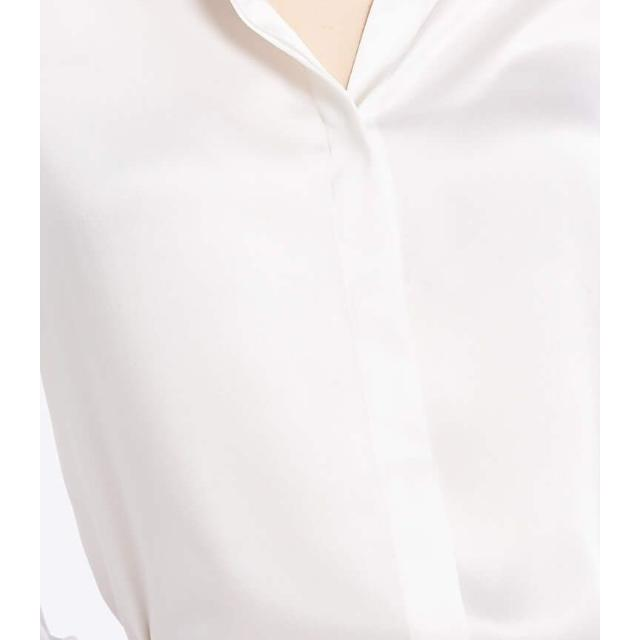silk: (40, 0, 600, 640)
